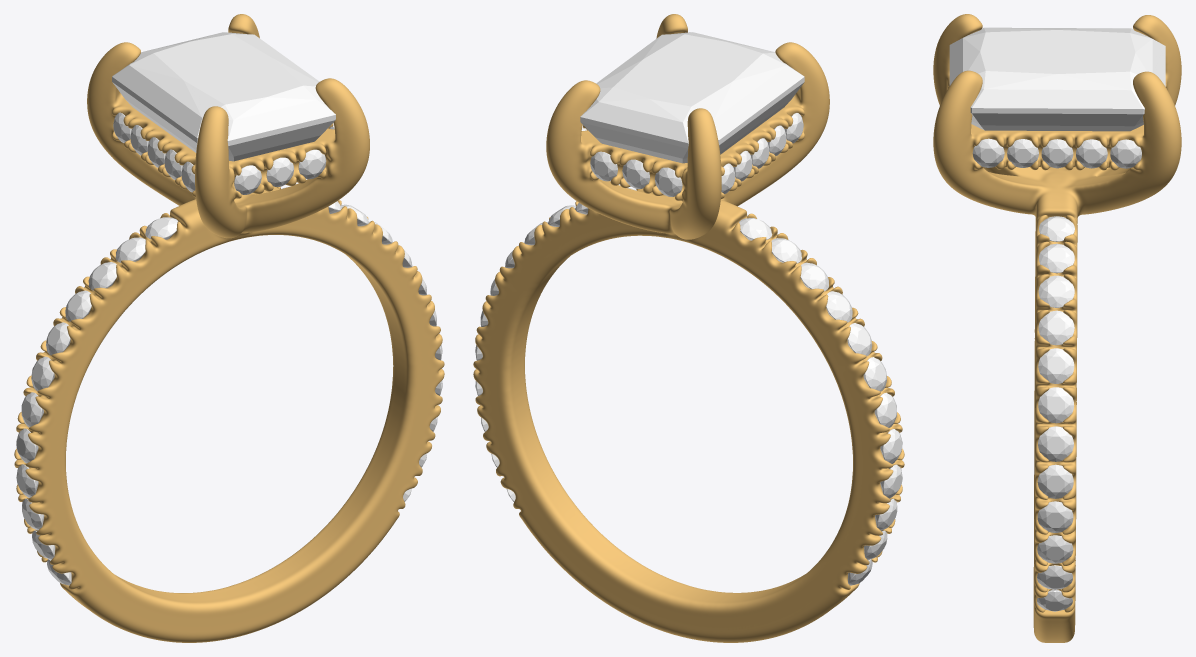
File: custom-ring-5.glb
The picture shows the model from 3 angles, left to right: view 1: azimuth 30°, elevation 25°; view 2: azimuth 150°, elevation 25°; view 3: azimuth 270°, elevation 25°; orthographic projection.
Visible parts, largest first — view 1: subtool1, Emerald1, GemOnCrv037, GemOnCrv015, GemOnCrv038, GemOnCrv039, GemOnCrv014, GemOnCrv016; view 2: subtool1, Emerald1, GemOnCrv015, GemOnCrv036, GemOnCrv014, GemOnCrv035, GemOnCrv016, GemOnCrv034; view 3: subtool1, Emerald1, GemOnCrv005, GemOnCrv004, GemOnCrv006, GemOnCrv003, GemOnCrv007, GemOnCrv002, GemOnCrv008, GemOnCrv001, GemOnCrv009, GemOnCrv026 (+7 smaller).
Part boxes in pixels (bbox=[...]): subtool1: bbox=[14, 14, 444, 642]; Emerald1: bbox=[112, 32, 335, 161]; GemOnCrv037: bbox=[234, 165, 261, 194]; GemOnCrv015: bbox=[65, 290, 91, 321]; GemOnCrv038: bbox=[266, 157, 294, 186]; GemOnCrv039: bbox=[298, 149, 326, 179]; GemOnCrv014: bbox=[88, 262, 116, 290]; GemOnCrv016: bbox=[46, 322, 70, 355]; subtool1: bbox=[473, 14, 904, 642]; Emerald1: bbox=[580, 32, 804, 163]; GemOnCrv015: bbox=[826, 291, 852, 322]; GemOnCrv036: bbox=[654, 167, 682, 196]; GemOnCrv014: bbox=[800, 262, 828, 291]; GemOnCrv035: bbox=[622, 159, 649, 188]; GemOnCrv016: bbox=[847, 323, 872, 355]; GemOnCrv034: bbox=[590, 151, 617, 181]; subtool1: bbox=[933, 14, 1181, 642]; Emerald1: bbox=[949, 27, 1165, 131]; GemOnCrv005: bbox=[1038, 387, 1074, 423]; GemOnCrv004: bbox=[1038, 348, 1074, 383]; GemOnCrv006: bbox=[1038, 426, 1073, 461]; GemOnCrv003: bbox=[1038, 310, 1074, 345]; GemOnCrv007: bbox=[1037, 464, 1073, 498]; GemOnCrv002: bbox=[1038, 275, 1074, 307]; GemOnCrv008: bbox=[1037, 501, 1073, 532]; GemOnCrv001: bbox=[1039, 243, 1074, 273]; GemOnCrv009: bbox=[1037, 535, 1073, 563]; GemOnCrv026: bbox=[1041, 139, 1073, 168].
Size of the model in its own units: 2.31 by 3.01 by 1.18.
